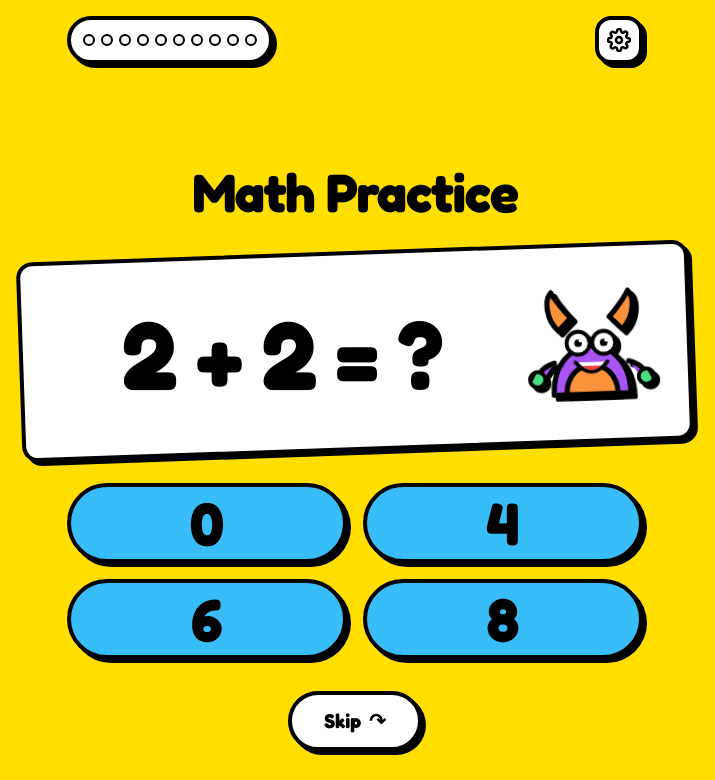
Test case: Home Page auto-advance › turns into "Next" and starts the green countdown on a correct answer
Click the button "4".
click(503, 523)  # box [363,483,643,563]
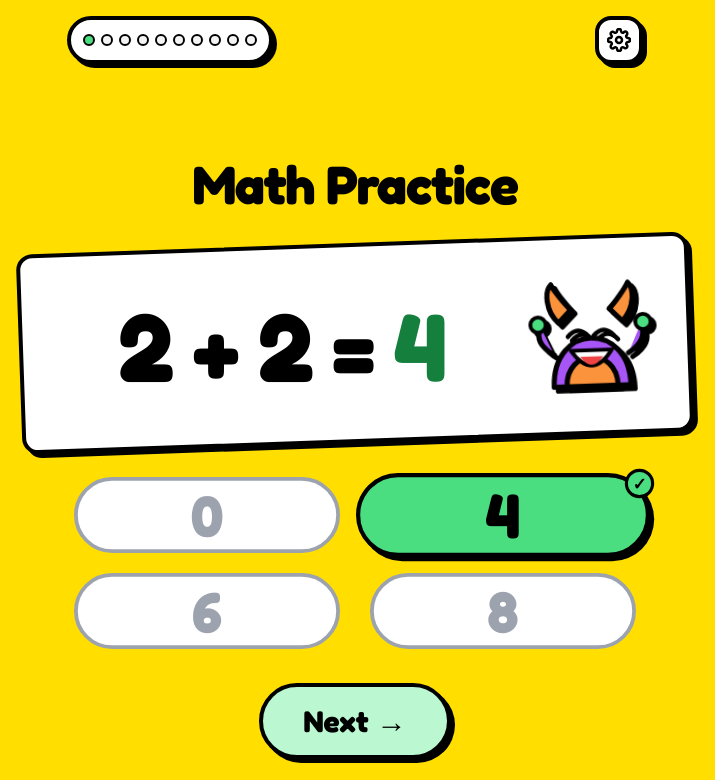
Expected: the button with test id "advance-button" is enabled, [259,683,451,759]
Expected: the button with test id "advance-button" shows "Next", [259,683,451,759]
